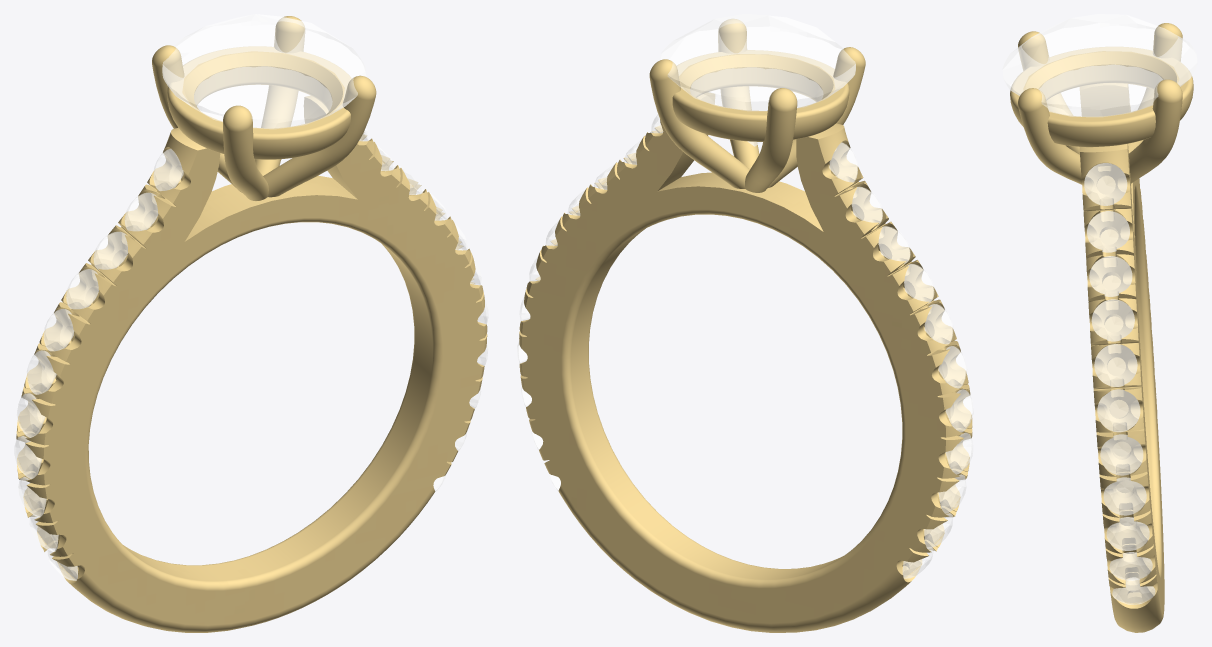
3 views of the same model, side by side, from view 1: azimuth 30°, elevation 25°; view 2: azimuth 150°, elevation 25°; view 3: azimuth 270°, elevation 25° (orthographic). The views are drawn at different scales.
Visible parts, largest first — view 1: platinum, stone 1, stone 4; view 2: platinum, stone 1, stone 4; view 3: platinum, stone 1, stone 4.
Boxes of the visible parts, x1,y1,x2,y2 form: platinum: (16, 16, 487, 632); stone 1: (162, 14, 366, 128); stone 4: (14, 127, 488, 580); platinum: (519, 19, 972, 632); stone 1: (659, 14, 855, 146); stone 4: (517, 114, 973, 578); platinum: (1010, 23, 1193, 632); stone 1: (1002, 14, 1197, 116); stone 4: (1084, 163, 1155, 604).
Bounding box in the file's own units: 0.0213 × 0.0265 × 0.00815.
6 materials, 1 textured.
